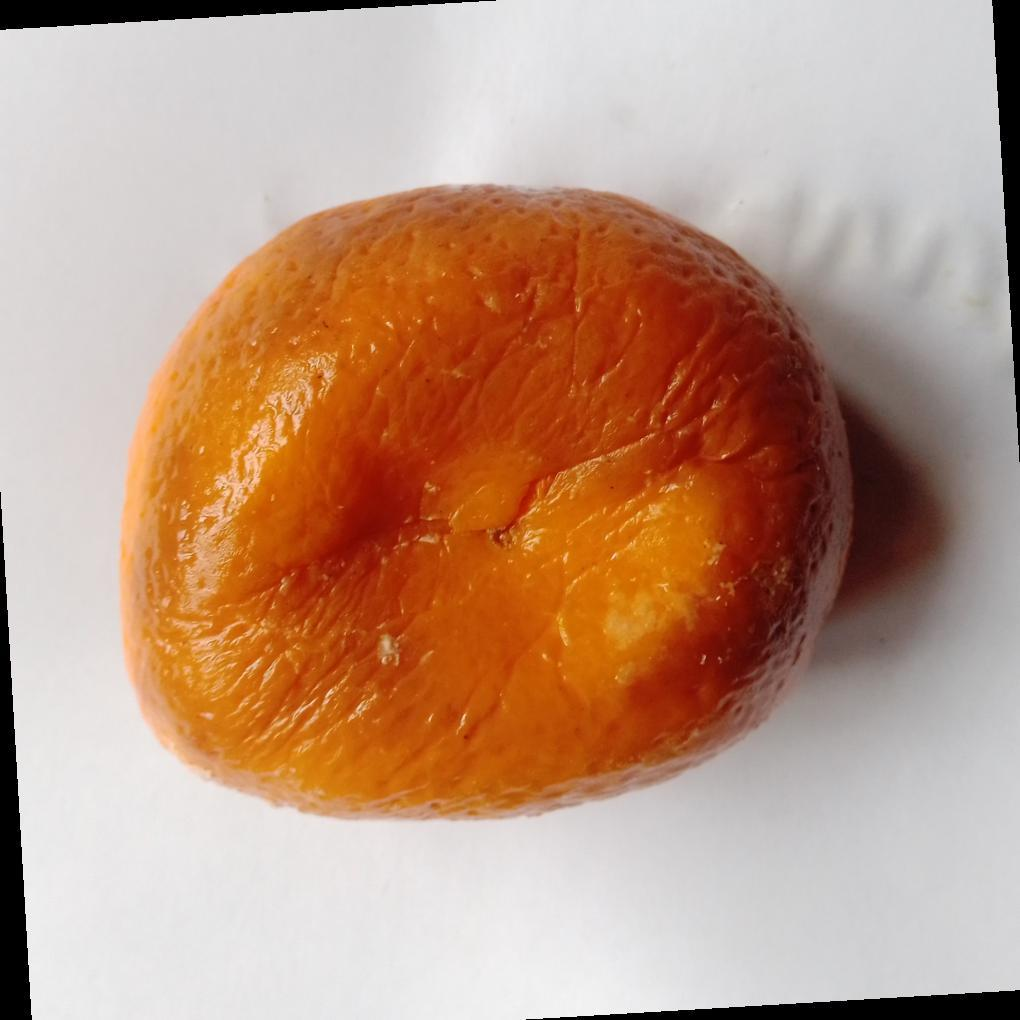FreshOrange: (117, 186, 856, 824)
